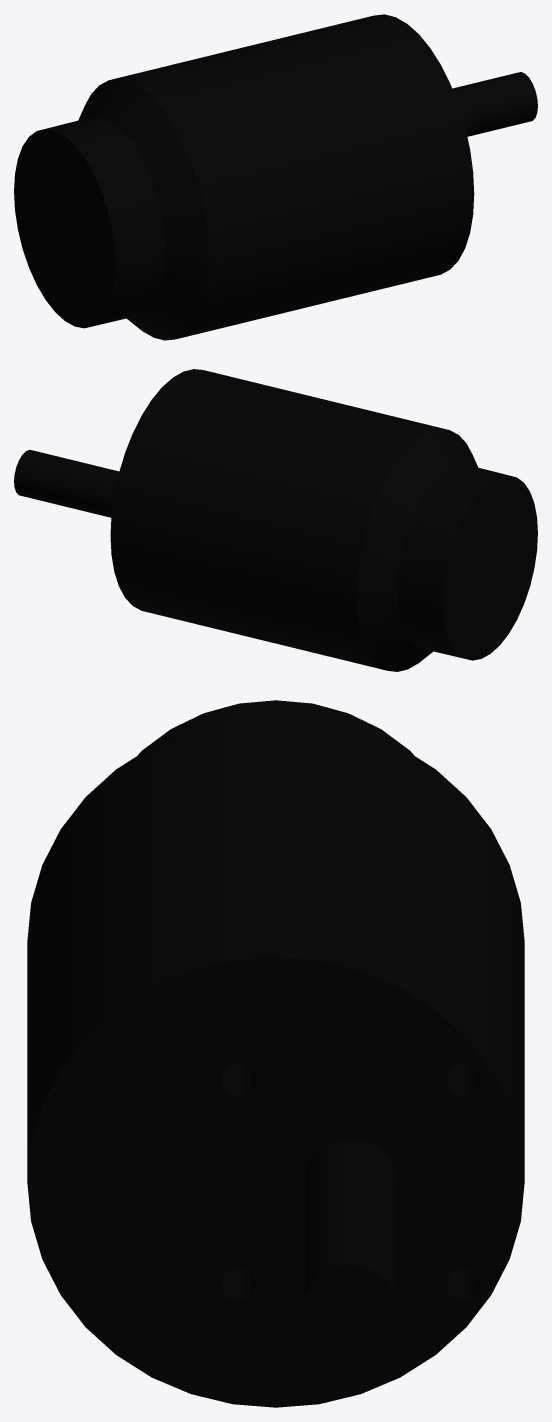
File: Motor.obj
3 renders of one model, top to bottom at view 1: azimuth 30°, elevation 25°; view 2: azimuth 150°, elevation 25°; view 3: azimuth 270°, elevation 25°, orthographic. The views are drawn at different scales.
Parts seen in each view (by area): view 1: Motor_Motor; view 2: Motor_Motor; view 3: Motor_Motor.
Boxes of the visible parts, x1,y1,x2,y2 form: Motor_Motor: (14,14,537,340); Motor_Motor: (14,369,537,671); Motor_Motor: (27,700,524,1407).
Bounding box in the file's own units: 2.61 × 1.26 × 1.26.
Materials: 1 (1 with a texture image).
